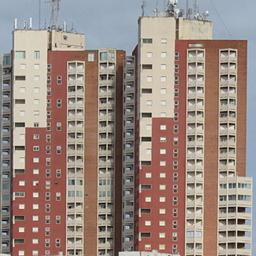building: (13, 0, 247, 256)
